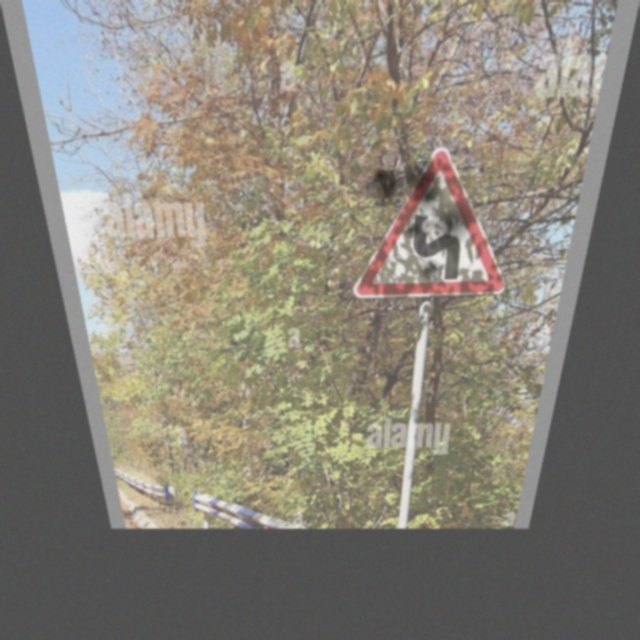Left_Reverse_Bend: (366, 161, 513, 294)
